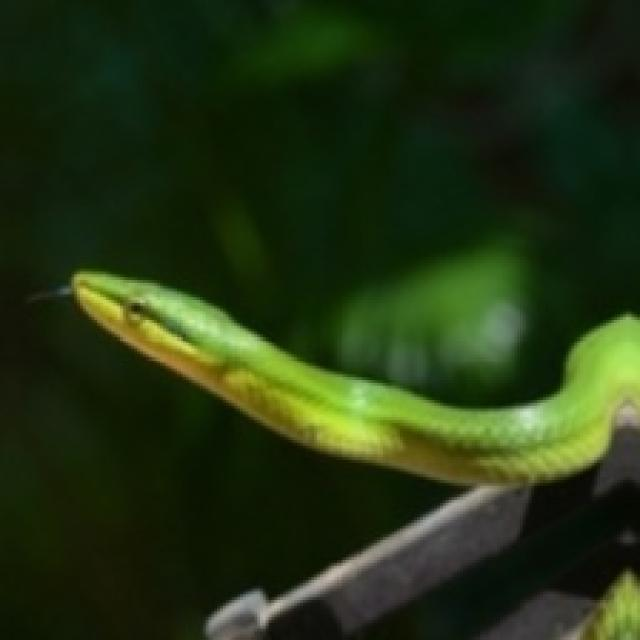red-tailed green ratsnake: (71, 271, 637, 480)
